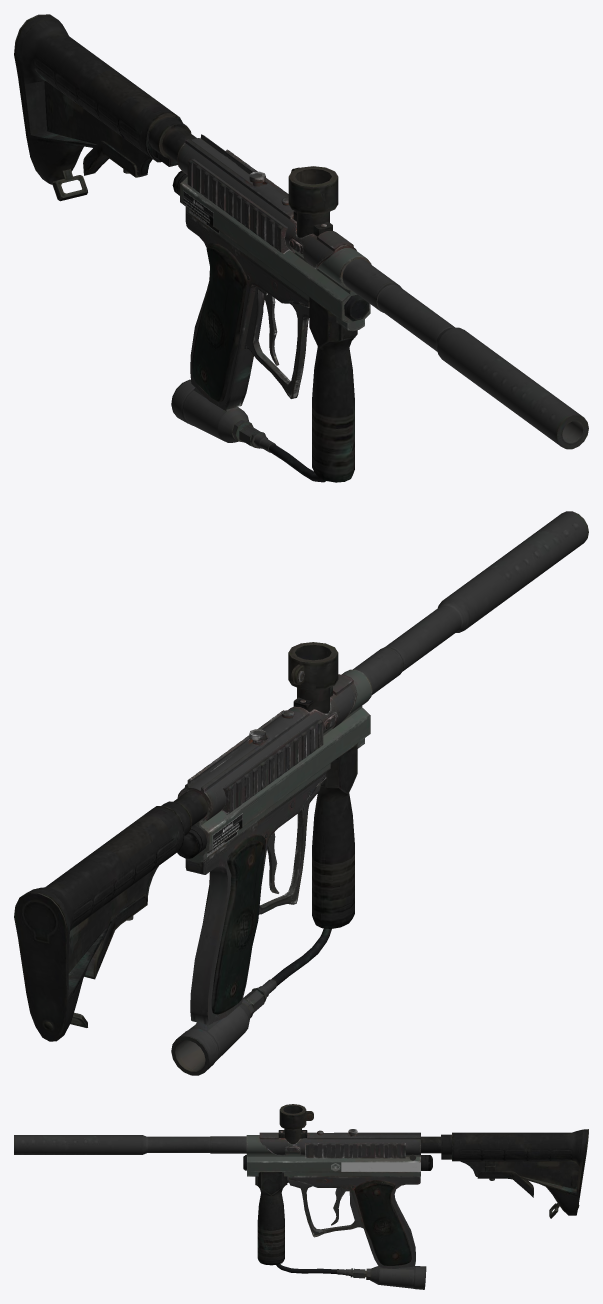
The model's file is KingmanSpyderMR100.glb.
The picture shows the model from 3 angles, top to bottom: view 1: azimuth 30°, elevation 25°; view 2: azimuth 150°, elevation 25°; view 3: azimuth 270°, elevation 25°; orthographic projection. The views are drawn at different scales.
Visible parts, largest first — view 1: Decal logo_SET01_0; view 2: Decal logo_SET01_0; view 3: Decal logo_SET01_0.
Part boxes in pixels (left/top/right/bottom): Decal logo_SET01_0: left=14, top=14, right=588, bottom=482; Decal logo_SET01_0: left=14, top=511, right=588, bottom=1075; Decal logo_SET01_0: left=14, top=1104, right=588, bottom=1289.
Size of the model in its own units: 0.0428 by 0.2568 by 0.7467.
1 material, 1 textured.
